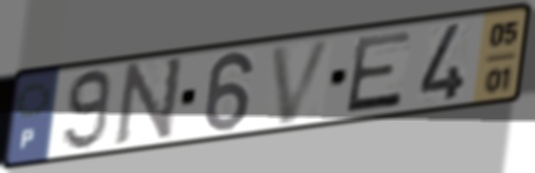4: (414, 20, 469, 104)
6: (202, 49, 257, 135)
9: (57, 65, 114, 156)
E: (342, 27, 416, 116)
N: (110, 54, 188, 149)
V: (267, 35, 338, 129)
